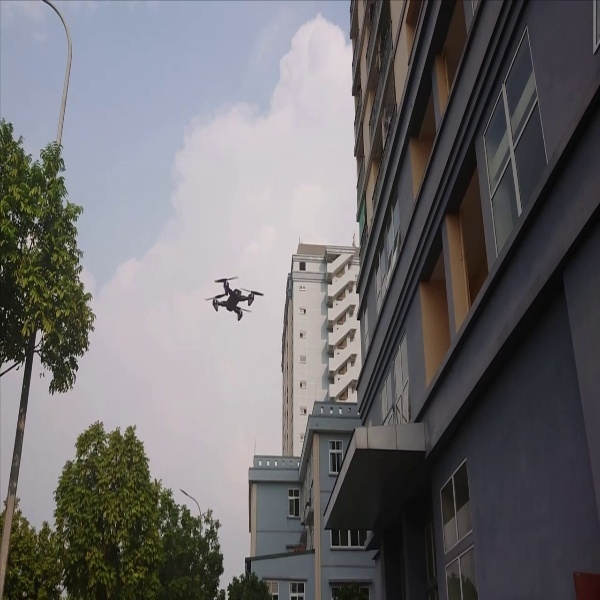drone: (203, 268, 267, 333)
